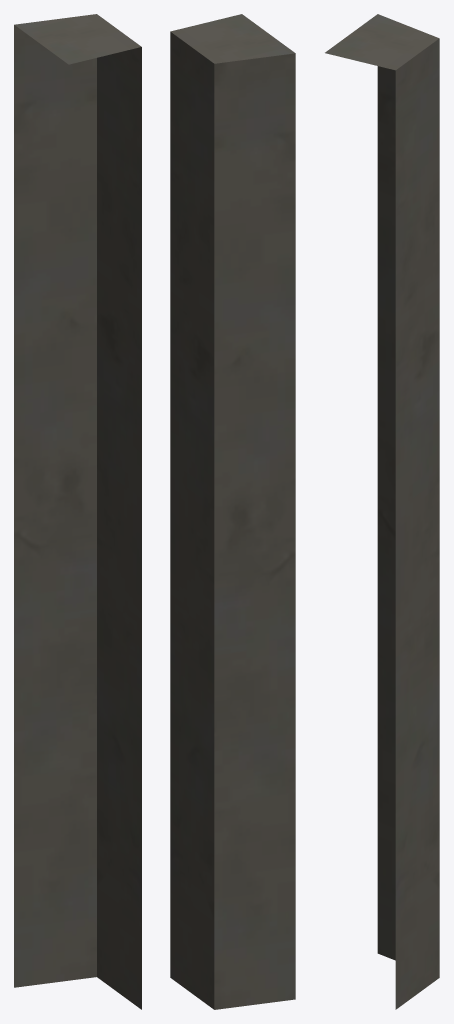
Rendered from steel-post--1.gltf.
The picture shows the model from 3 angles, left to right: view 1: azimuth 30°, elevation 25°; view 2: azimuth 210°, elevation 25°; view 3: azimuth 330°, elevation 25°; orthographic projection. The views are drawn at different scales.
Parts seen in each view (by area): view 1: Plane.006; view 2: Plane.006; view 3: Plane.006.
Part boxes in pixels (x1=…): Plane.006: x1=14, y1=14, x2=141, y2=1009; Plane.006: x1=170, y1=14, x2=295, y2=1009; Plane.006: x1=325, y1=14, x2=439, y2=1009.
Size of the model in its own units: 0.238 by 3 by 0.3087.
1 material, 1 textured.
